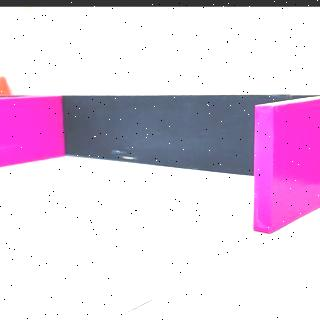xparking: (255, 104, 320, 232), (1, 100, 63, 162)
